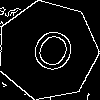O: (23, 25, 80, 85)
